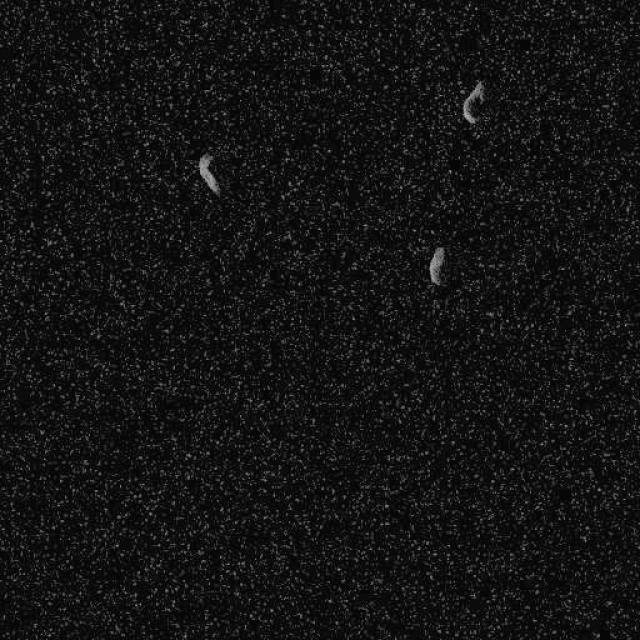D2: (461, 78, 485, 124), (198, 152, 222, 198), (428, 245, 448, 286)
